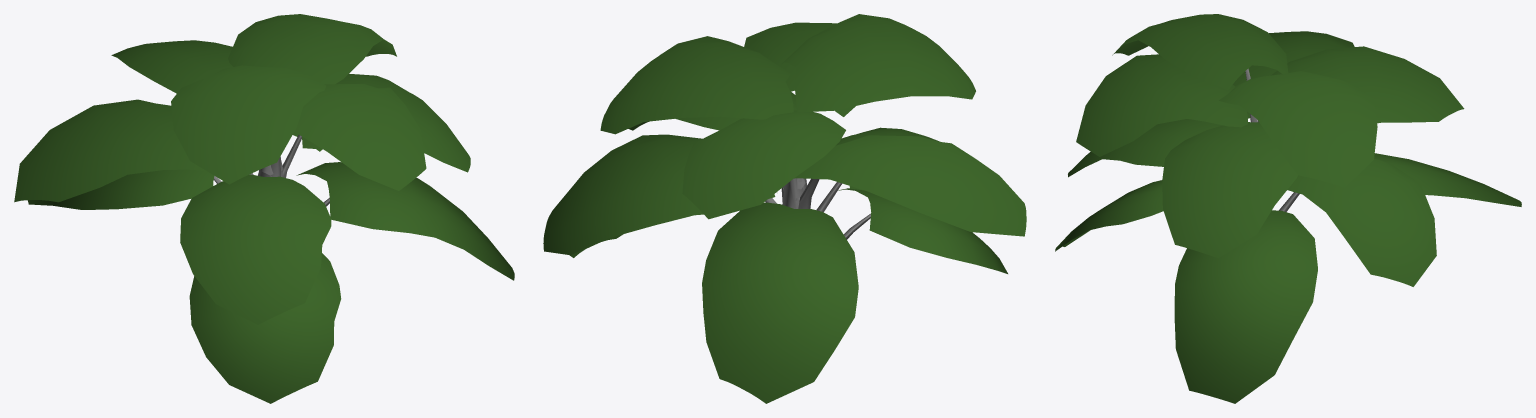
The model's file is SM_plant_tropical_05.fbx.
The picture shows the model from 3 angles, left to right: view 1: azimuth 30°, elevation 25°; view 2: azimuth 150°, elevation 25°; view 3: azimuth 270°, elevation 25°; orthographic projection. The views are drawn at different scales.
Visible parts, largest first — view 1: tree017; view 2: tree017; view 3: tree017.
Part boxes in pixels (<box>): tree017: <box>14,14,514,403</box>; tree017: <box>543,14,1026,403</box>; tree017: <box>1055,14,1521,403</box>.
Bounding box in the file's own units: 42.86 × 25.68 × 39.09.
